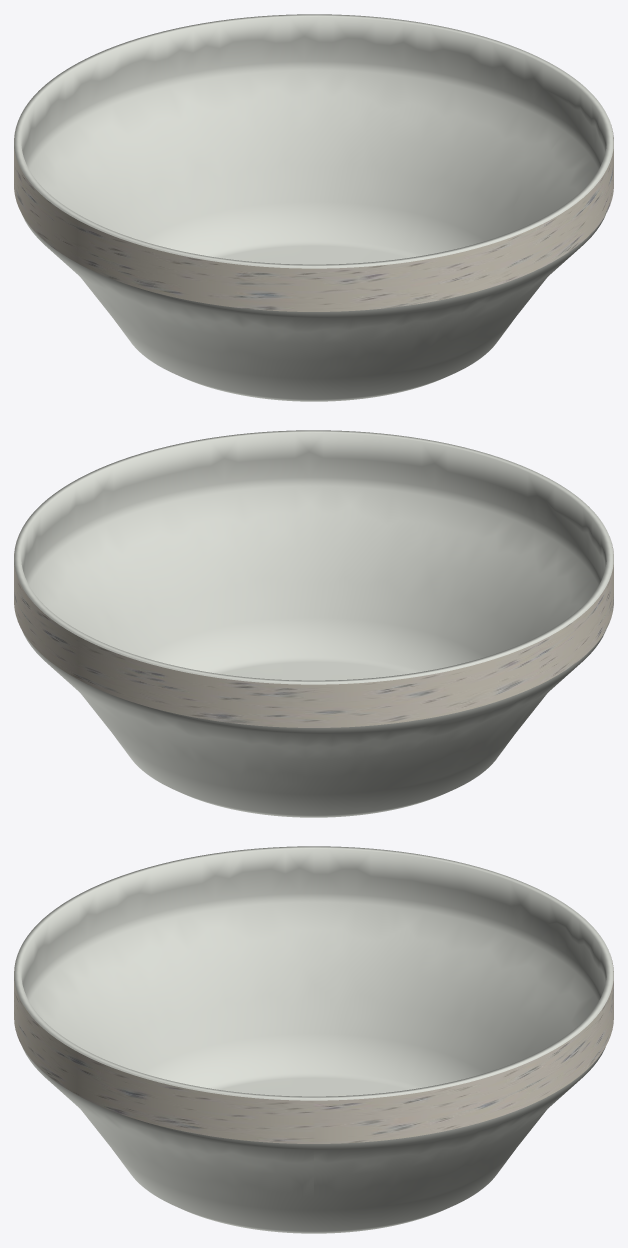
3 views of the same model, one above another, from view 1: azimuth 30°, elevation 25°; view 2: azimuth 150°, elevation 25°; view 3: azimuth 270°, elevation 25° (orthographic).
Parts seen in each view (by area): view 1: body; view 2: body; view 3: body.
Boxes of the visible parts, bbox=[...] form: body: bbox=[14, 14, 613, 401]; body: bbox=[14, 430, 613, 817]; body: bbox=[14, 846, 613, 1233].
Bounding box in the file's own units: 0.2824 × 0.096 × 0.2824.
2 materials, 1 textured.
